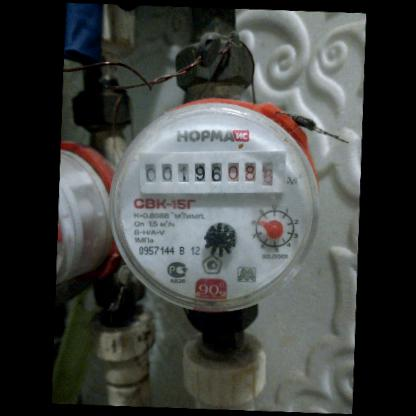digital_screen: (135, 148, 225, 195)
